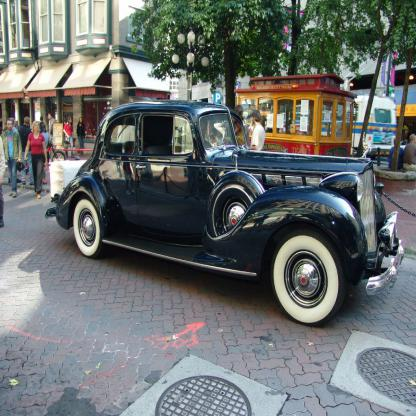Car: (45, 100, 404, 326)
